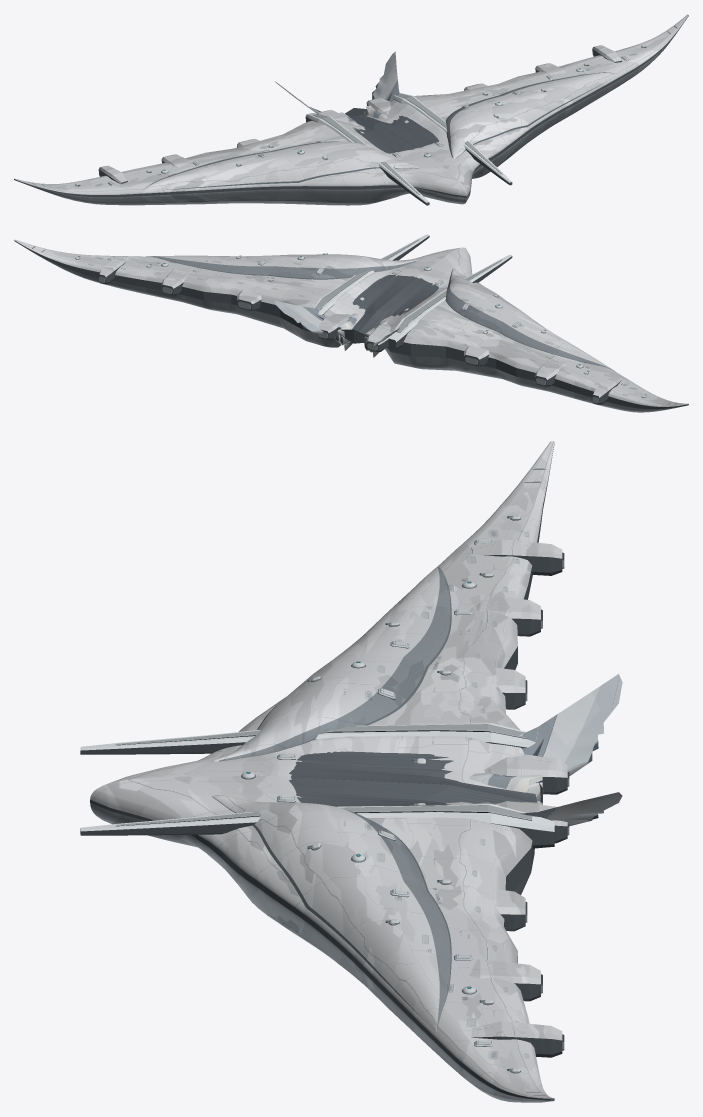
Rendered from stingray.glb.
3 views of the same model, one above another, from view 1: azimuth 30°, elevation 25°; view 2: azimuth 150°, elevation 25°; view 3: azimuth 270°, elevation 25° (orthographic). The views are drawn at different scales.
Visible parts, largest first — view 1: Port / stepped flight deck, Starboard / stepped flight deck, Port / swept shoulder armor, Starboard / swept shoulder armor, Port / longitudinal spine 1300, Starboard / longitudinal spine 1300, Hull / Mat1, Port / stern block 7740, Starboard / stern block 7740; view 2: Port / stepped flight deck, Starboard / stepped flight deck, Port / swept shoulder armor, Starboard / swept shoulder armor, Port / longitudinal spine 1300, Hull / Mat1, Starboard / longitudinal spine 1300, Port / stern block 5860, Starboard / stern block 5860, Starboard / stern block 780, Port / stern block 780, Port / stern block 7740 (+3 smaller); view 3: Starboard / stepped flight deck, Port / stepped flight deck, Starboard / swept shoulder armor, Port / swept shoulder armor, Starboard / longitudinal spine 1300, Hull / Mat1, Port / longitudinal spine 1300, Starboard / stern block 7740, Port / stern block 7740, Port / stern block 780, Port / stern block 5860, Starboard / stern block 5860 (+3 smaller).
Part boxes in pixels (x1,y1,x2,y2): Port / stepped flight deck: (14, 108, 466, 205); Starboard / stepped flight deck: (354, 14, 688, 200); Port / swept shoulder armor: (142, 141, 418, 191); Starboard / swept shoulder armor: (445, 72, 618, 159); Port / longitudinal spine 1300: (305, 113, 429, 205); Starboard / longitudinal spine 1300: (393, 93, 512, 185); Hull / Mat1: (275, 51, 399, 125); Port / stern block 7740: (98, 165, 127, 183); Starboard / stern block 7740: (592, 45, 622, 62); Port / stepped flight deck: (354, 247, 688, 412); Starboard / stepped flight deck: (14, 239, 460, 347); Port / swept shoulder armor: (445, 268, 615, 371); Starboard / swept shoulder armor: (146, 254, 418, 279); Port / longitudinal spine 1300: (388, 254, 512, 349); Hull / Mat1: (274, 301, 399, 357); Starboard / longitudinal spine 1300: (313, 234, 429, 314); Port / stern block 5860: (535, 359, 565, 386); Starboard / stern block 5860: (161, 268, 191, 295); Starboard / stern block 780: (317, 314, 349, 339); Port / stern block 780: (366, 323, 390, 351); Port / stern block 7740: (592, 377, 622, 404); Starboard / stepped flight deck: (90, 776, 554, 1102); Port / stepped flight deck: (108, 441, 554, 802); Starboard / swept shoulder armor: (212, 795, 451, 1033); Port / swept shoulder armor: (212, 566, 451, 761); Starboard / longitudinal spine 1300: (80, 804, 554, 848); Hull / Mat1: (469, 674, 622, 826); Port / longitudinal spine 1300: (80, 723, 535, 754); Starboard / stern block 7740: (471, 1021, 564, 1057); Port / stern block 7740: (471, 539, 564, 575); Port / stern block 780: (484, 754, 569, 794); Port / stern block 5860: (469, 594, 542, 636); Starboard / stern block 5860: (469, 959, 542, 1001).
Size of the model in its own units: 3766 by 366 by 1312.
30 materials, 13 textured.
